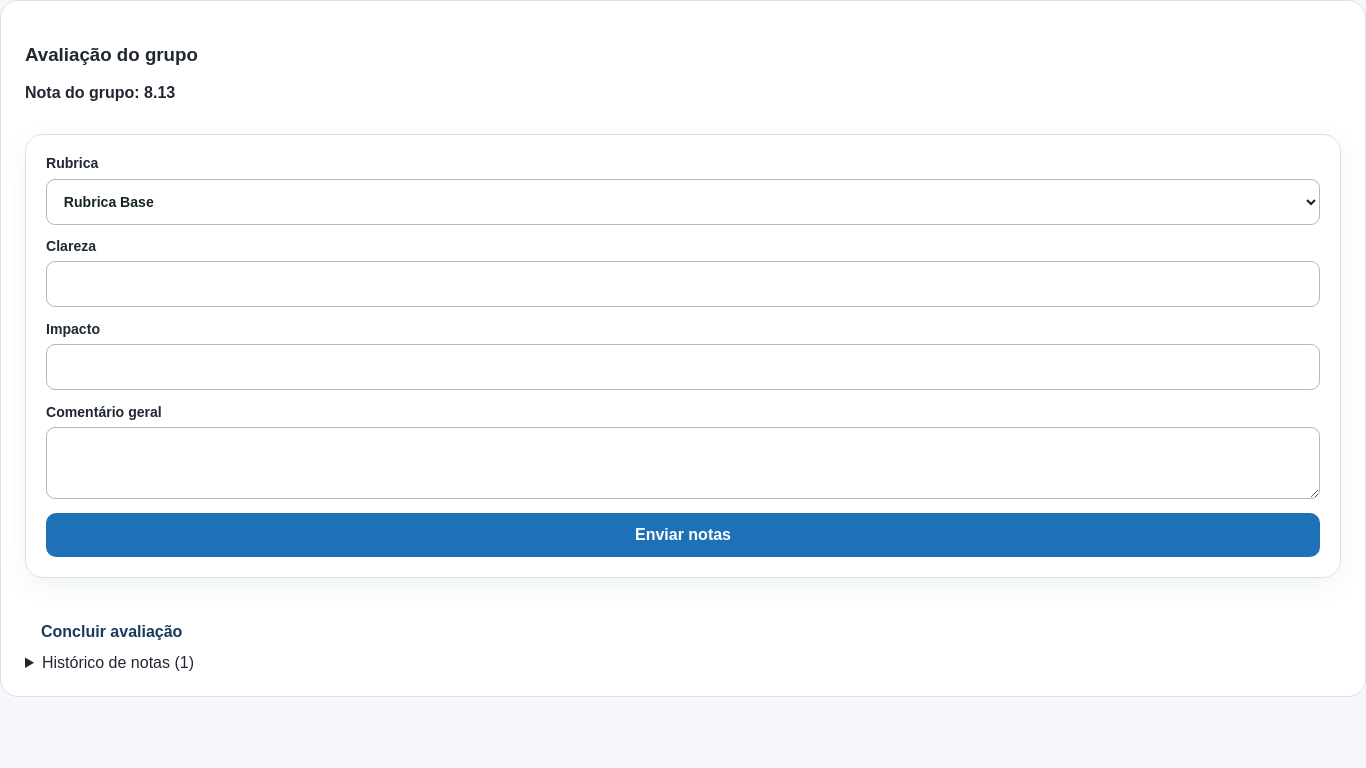
avaliação do grupo › conclui a avaliação
Step 1. Click the button "Concluir avaliação" → (112, 632), box [25,610,198,654]
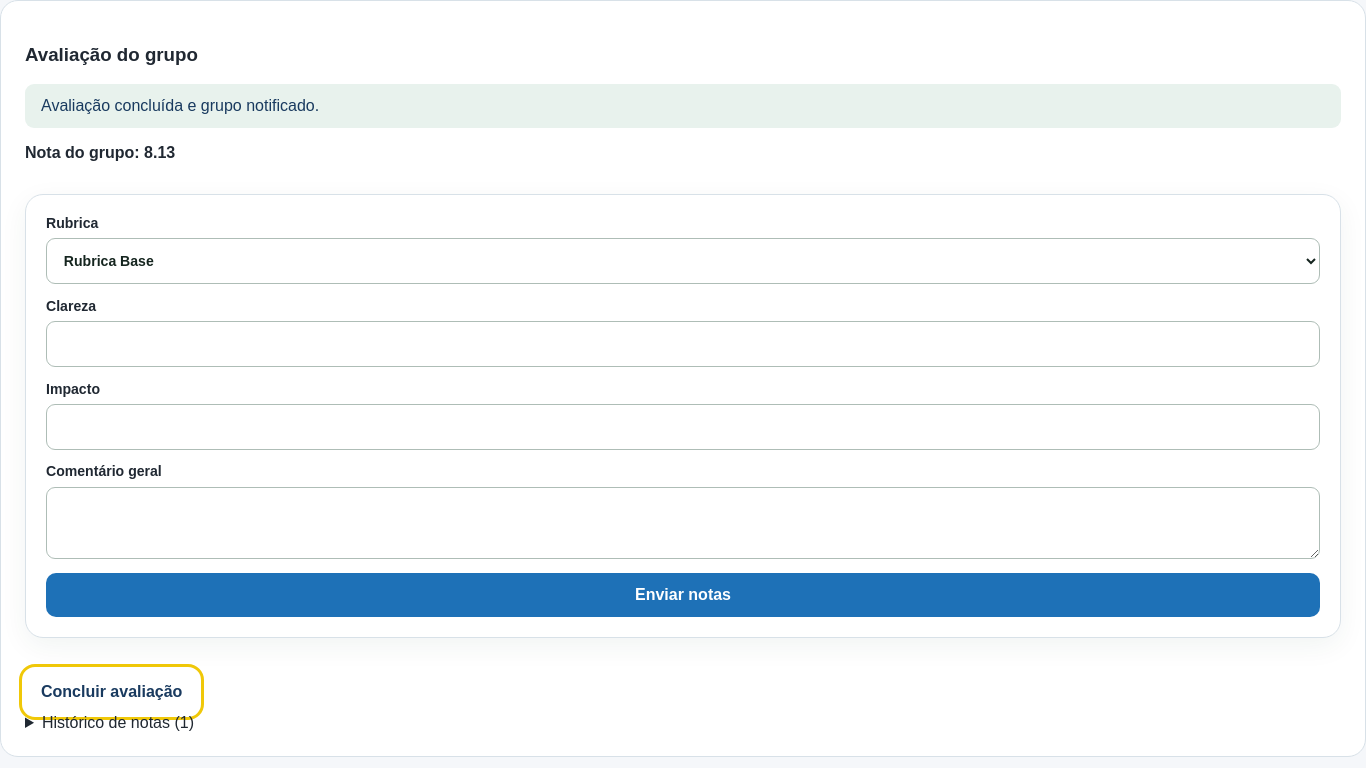
Expected: the text "Avaliação concluída e grupo notificado." is shown, [25,84,1341,128]
